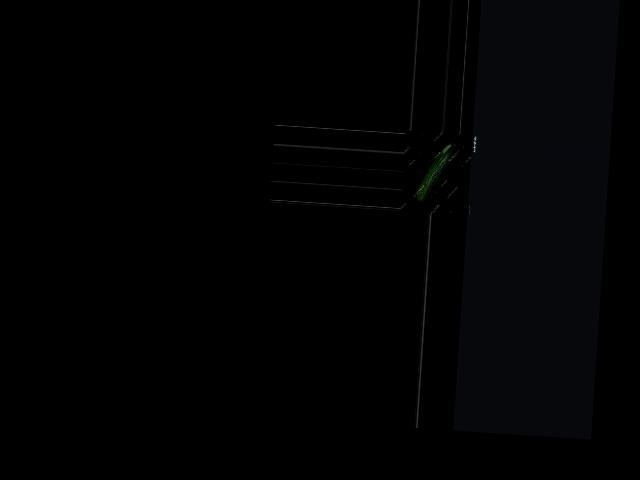cucumber: (416, 141, 458, 204)
